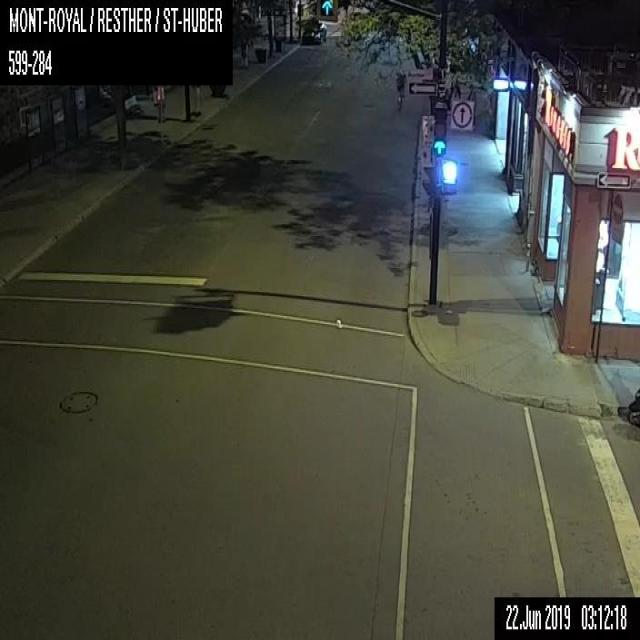cyclist: (394, 68, 407, 110)
vehicle: (301, 18, 326, 44)
